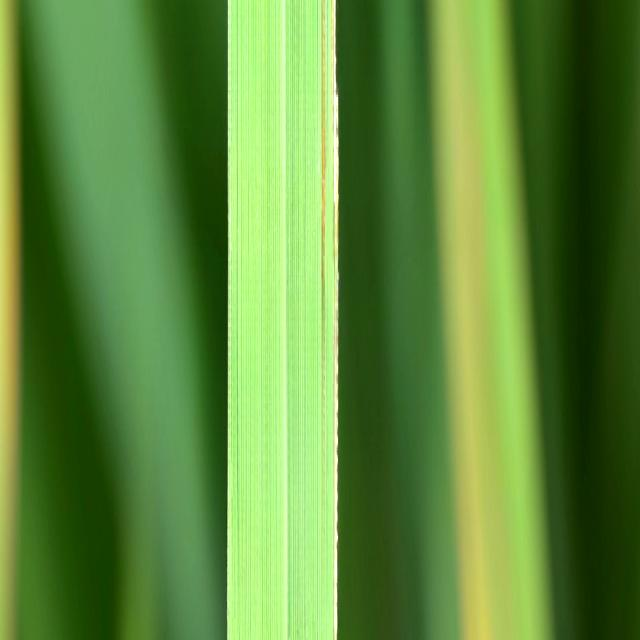BLS: (331, 0, 338, 640), (321, 0, 325, 333)
